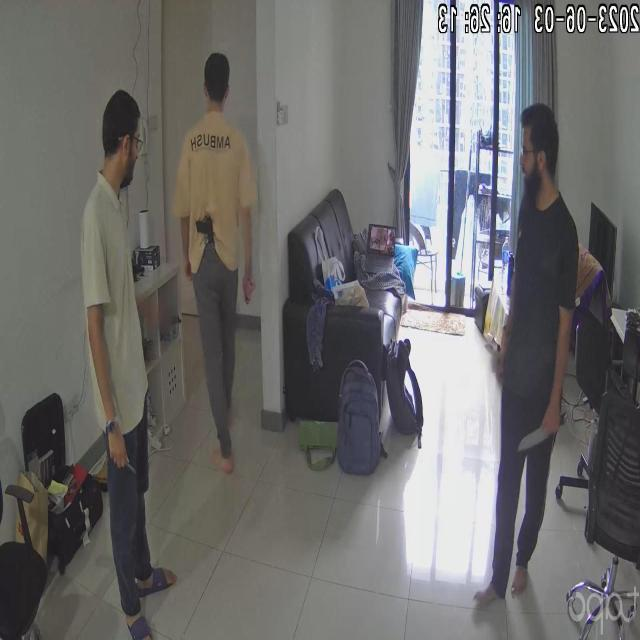Gun: (190, 205, 228, 255)
Knife: (491, 402, 574, 465), (96, 417, 146, 481)
